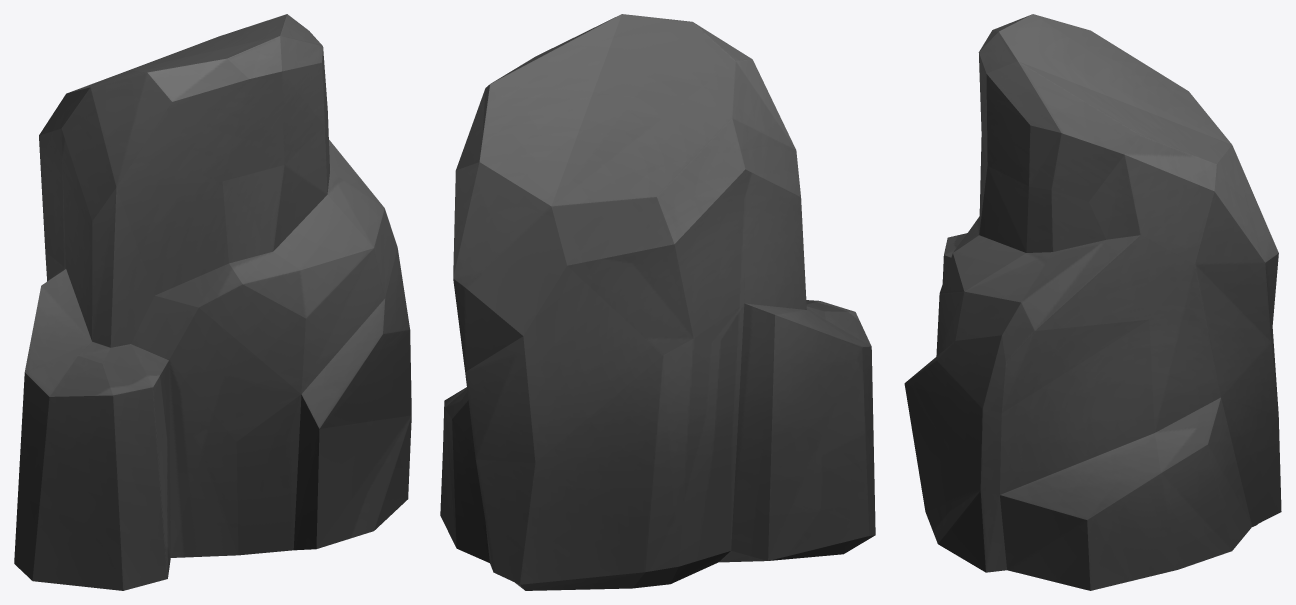
Rendered from rock_3.glb.
3 renders of one model, left to right at view 1: azimuth 30°, elevation 25°; view 2: azimuth 150°, elevation 25°; view 3: azimuth 270°, elevation 25°, orthographic. The views are drawn at different scales.
Visible parts, largest first — view 1: Rock_3; view 2: Rock_3; view 3: Rock_3.
Boxes of the visible parts, x1=… form: Rock_3: x1=14, y1=14, x2=411, y2=590; Rock_3: x1=440, y1=14, x2=875, y2=590; Rock_3: x1=904, y1=14, x2=1281, y2=590.
Size of the model in its own units: 3.37 by 3.94 by 2.81.
1 material, 1 textured.
